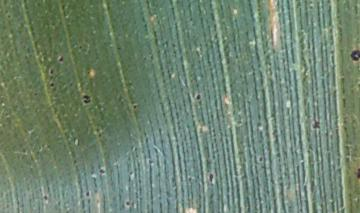tarspot: (348, 48, 360, 61), (310, 118, 320, 130), (81, 93, 91, 104), (207, 172, 215, 184), (57, 54, 65, 64), (41, 194, 50, 202), (257, 155, 265, 164), (97, 167, 106, 175), (123, 200, 131, 208), (195, 93, 202, 101), (130, 102, 137, 110), (5, 13, 12, 21), (115, 45, 122, 52), (48, 82, 56, 88), (31, 91, 39, 97), (85, 189, 90, 198), (356, 167, 360, 178), (77, 43, 83, 49), (49, 68, 54, 74)
